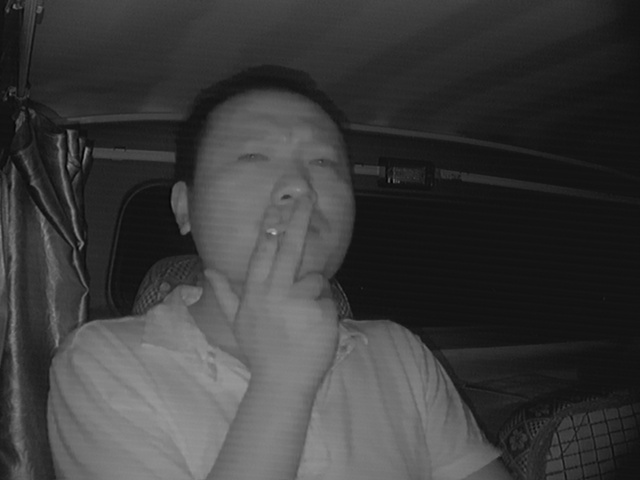hand: (239, 207, 338, 335)
